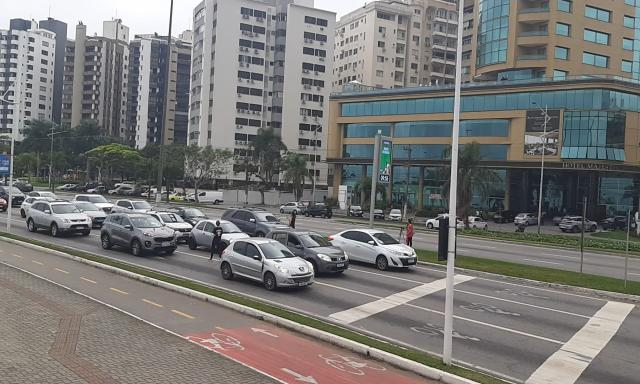carro: (220, 238, 317, 292), (264, 226, 349, 278), (328, 227, 420, 271), (100, 212, 177, 259), (27, 201, 91, 240), (221, 206, 292, 240), (189, 220, 248, 251), (144, 210, 192, 246), (69, 200, 106, 228), (165, 205, 209, 227), (112, 198, 154, 220), (73, 194, 113, 215), (20, 198, 56, 220), (425, 214, 465, 232), (560, 216, 597, 233), (0, 186, 26, 206), (601, 215, 627, 232), (462, 216, 489, 232), (304, 204, 332, 217), (492, 209, 518, 223), (553, 212, 578, 226), (514, 212, 539, 225), (280, 202, 306, 213), (12, 182, 34, 193), (76, 182, 99, 192), (127, 186, 150, 196), (347, 204, 363, 218), (28, 191, 58, 198), (179, 192, 198, 202), (108, 187, 134, 194), (168, 191, 186, 201), (388, 209, 402, 221), (56, 182, 76, 190), (372, 208, 384, 221), (87, 186, 110, 192), (0, 195, 8, 212), (0, 177, 18, 184), (157, 192, 174, 199), (68, 184, 84, 190), (102, 187, 116, 193), (115, 182, 135, 186)
moto: (514, 224, 526, 234), (411, 214, 416, 224)
van: (190, 190, 226, 204), (141, 188, 163, 198)
